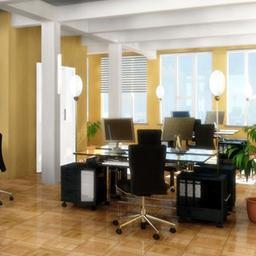Puerta: (37, 64, 76, 160)
Ventana: (162, 55, 211, 123), (103, 60, 148, 124), (227, 53, 254, 127)
